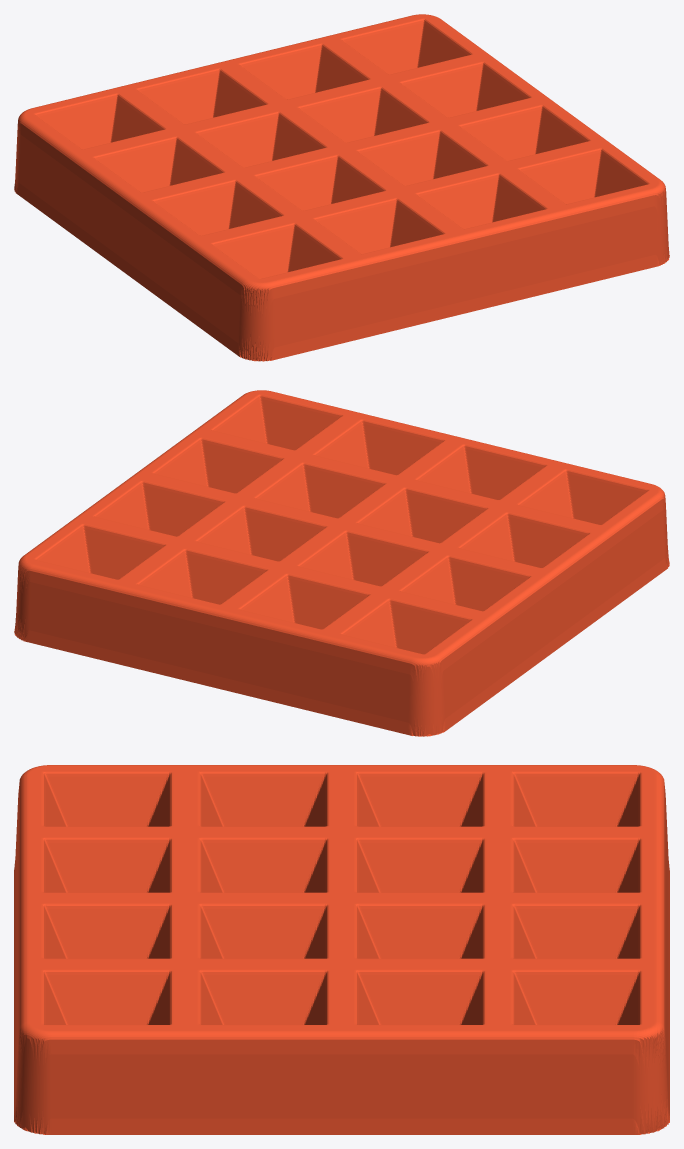
File: mold.glb
3 views of the same model, one above another, from view 1: azimuth 30°, elevation 25°; view 2: azimuth 150°, elevation 25°; view 3: azimuth 270°, elevation 25° (orthographic). The views are drawn at different scales.
Visible parts, largest first — view 1: geometry_0; view 2: geometry_0; view 3: geometry_0.
Part boxes in pixels (left/top/right/bottom): geometry_0: left=14, top=14, right=669, bottom=361; geometry_0: left=14, top=390, right=669, bottom=736; geometry_0: left=14, top=765, right=669, bottom=1134.
Size of the model in its own units: 0.162 by 0.0267 by 0.162.
